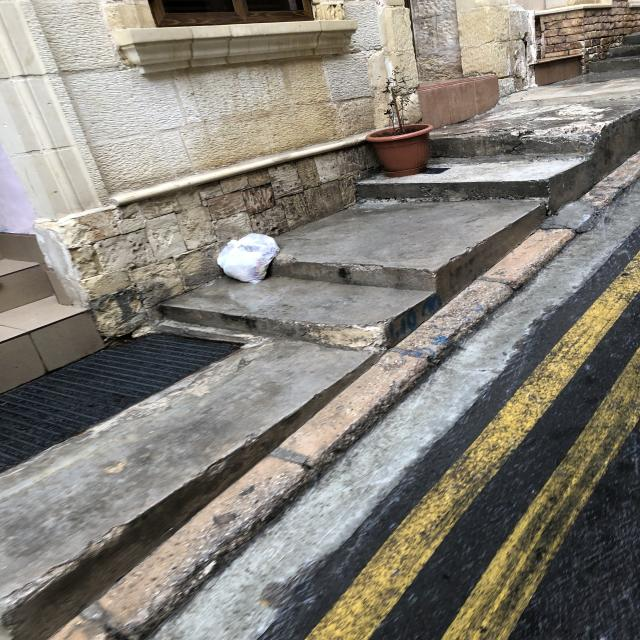Organic Waste -White Bag-: (214, 230, 286, 289)
